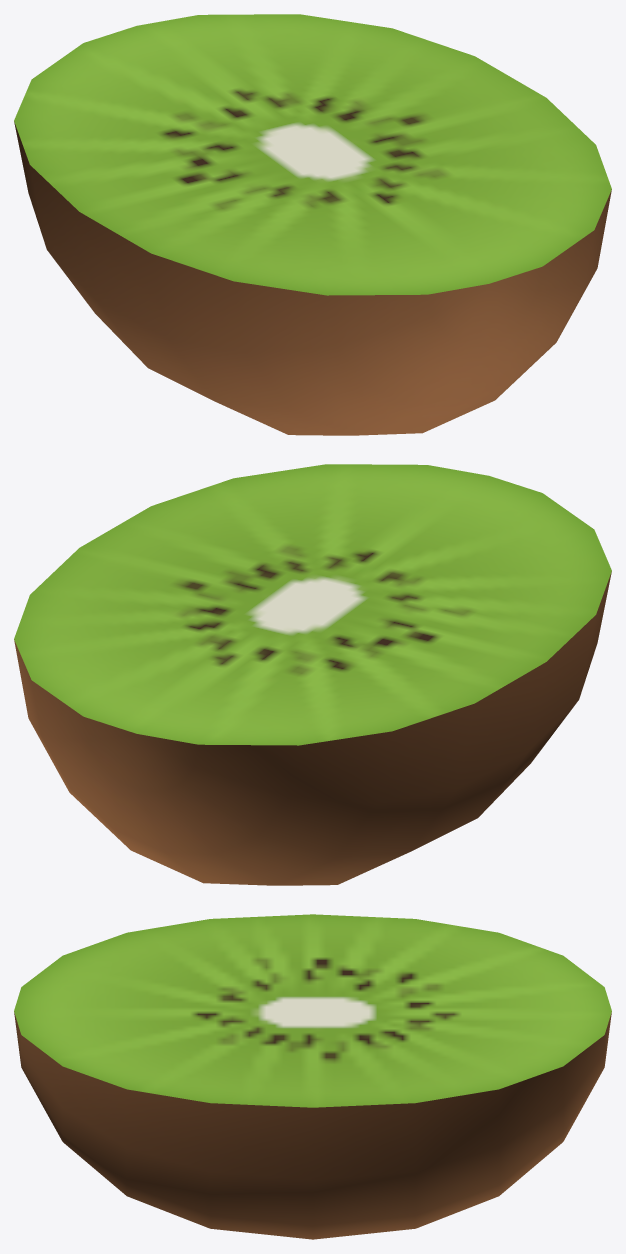
The model's file is Kiwi.FBX.
The picture shows the model from 3 angles, top to bottom: view 1: azimuth 30°, elevation 25°; view 2: azimuth 150°, elevation 25°; view 3: azimuth 270°, elevation 25°; orthographic projection. The views are drawn at different scales.
Parts seen in each view (by area): view 1: Kiwi; view 2: Kiwi; view 3: Kiwi.
Part boxes in pixels (box(x1,y1,x2,y2)): Kiwi: box(14, 14, 611, 435); Kiwi: box(14, 464, 611, 885); Kiwi: box(14, 914, 611, 1239).
Bounding box in the file's own units: 121 × 60.58 × 158.
